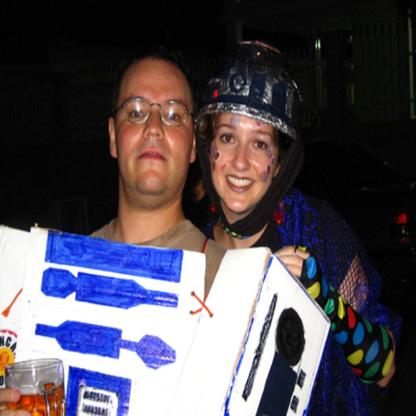Helmet: (203, 36, 305, 238)
